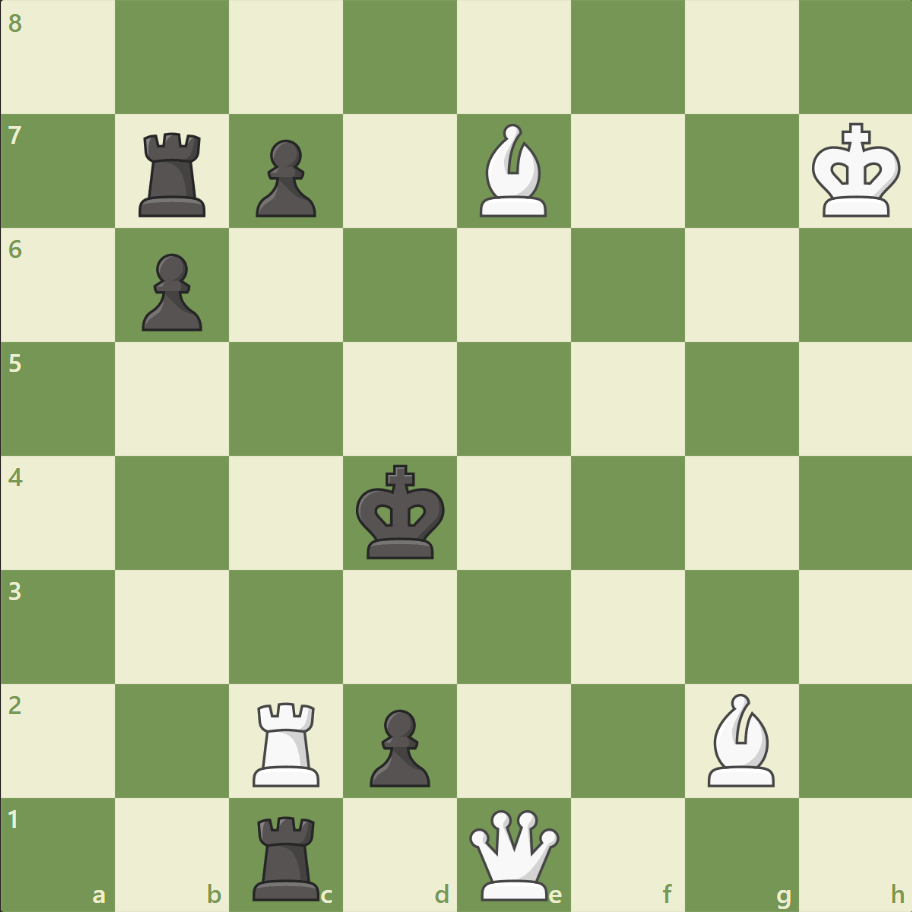B: (698, 687, 782, 790), (471, 120, 555, 222)
K: (806, 117, 906, 225)
Q: (464, 804, 563, 903)
R: (246, 693, 329, 790)
k: (351, 458, 451, 566)
p: (247, 132, 322, 223), (133, 246, 208, 337), (361, 700, 435, 791)
r: (246, 806, 329, 904), (133, 125, 215, 222)
